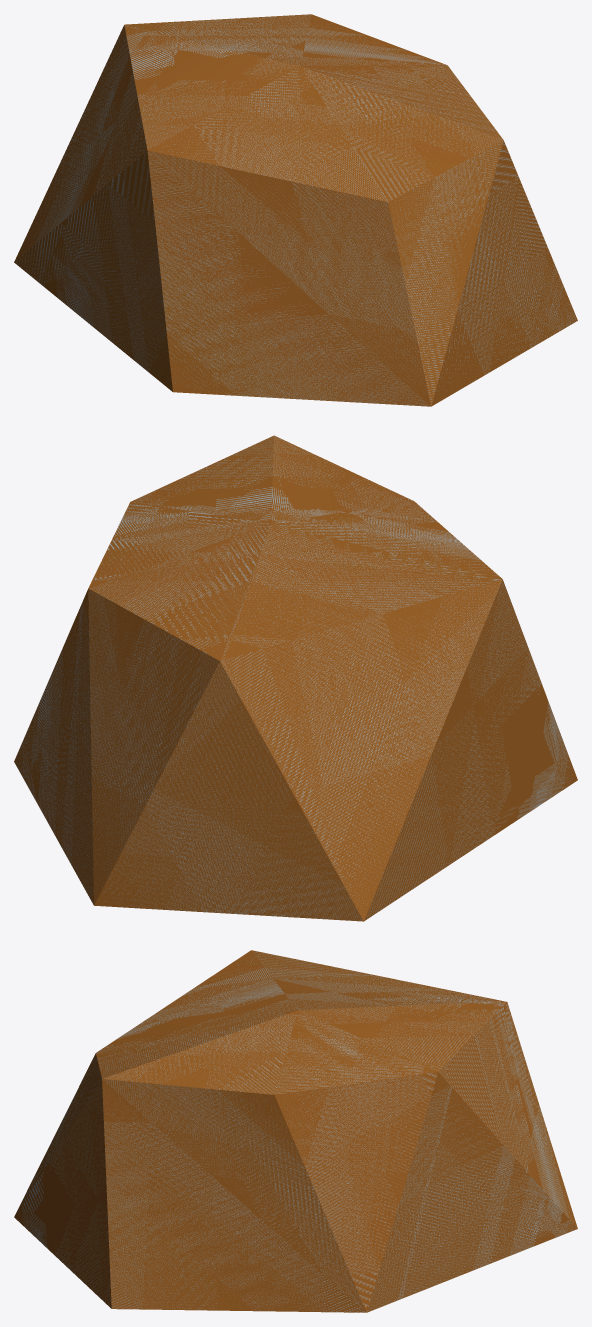
Rendered from Rock_Small_Dirt_02.fbx.
3 views of the same model, one above another, from view 1: azimuth 30°, elevation 25°; view 2: azimuth 150°, elevation 25°; view 3: azimuth 270°, elevation 25° (orthographic). The views are drawn at different scales.
Visible parts, largest first — view 1: Model; view 2: Model; view 3: Model.
Part boxes in pixels (<box>): Model: <box>14,14,577,406</box>; Model: <box>14,435,577,921</box>; Model: <box>14,950,577,1312</box>.
Size of the model in its own units: 82.66 by 58.3 by 110.
